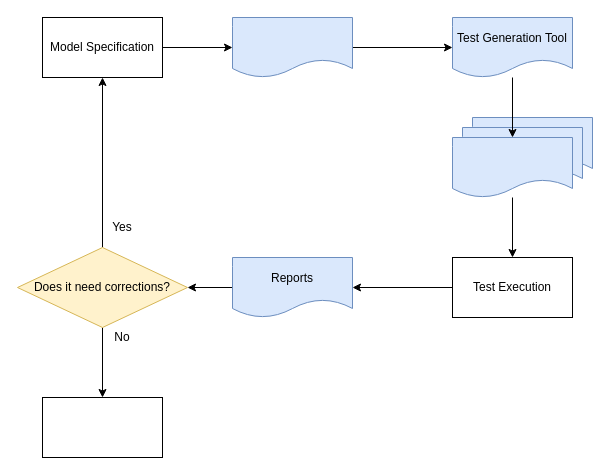
The diagram is 610 pixels wide and 475 high, and some of its shapes have lost their labels. Here are the shapes that lost their labels. From the top down, the centre of each, then its label:
the point at 292,47: Model
the point at 512,167: Test Suite
the point at 102,427: Release
